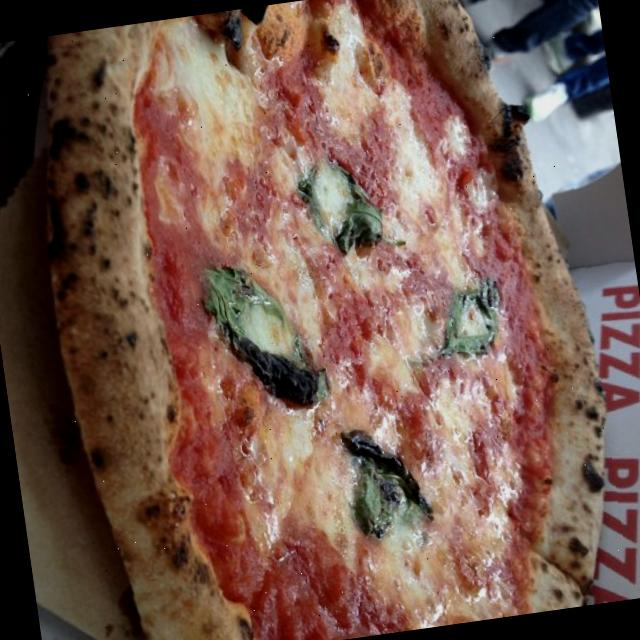basil: (192, 257, 330, 422), (288, 154, 411, 279), (332, 426, 436, 556), (426, 278, 516, 382)
pizza: (47, 0, 605, 640)
